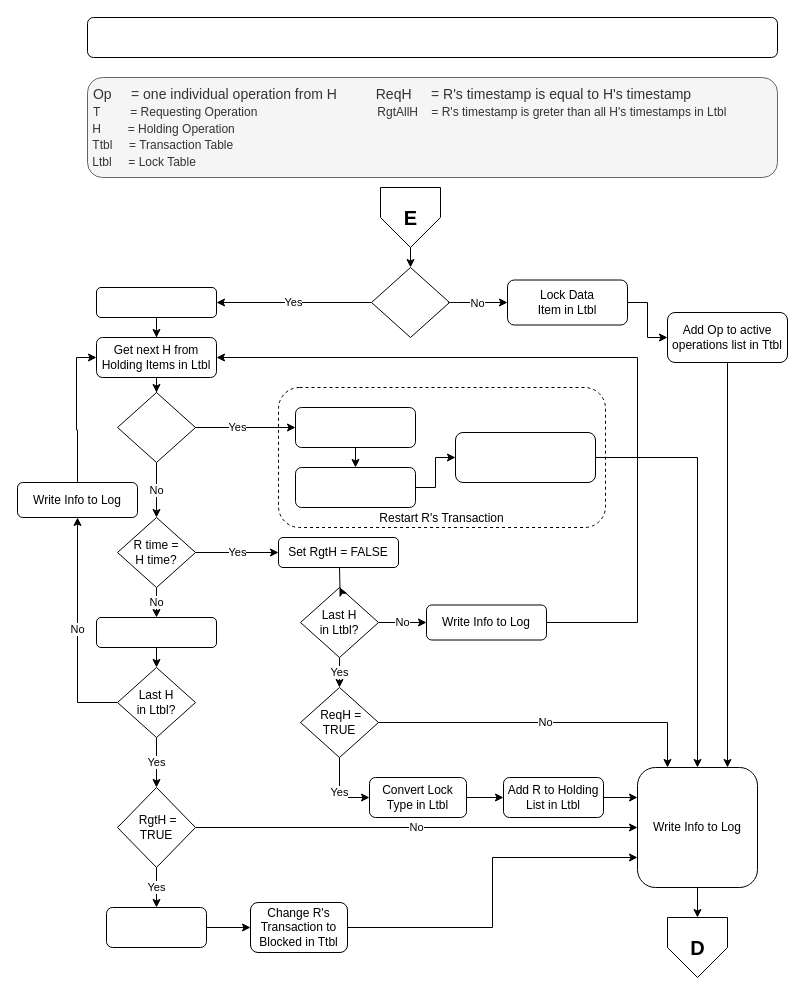
Image size: 805x995. Some labels were removed from this diagram. The box of each missing label's shape, as (x1, y1, x2, y2) in pixels:
Add R to Waiting List in Ltbl: (106, 906, 206, 948)
Change R's T status to Restarted: (294, 406, 416, 448)
Holding Items in Ltbl?: (370, 266, 450, 338)
Move Ttbl Active Operations to Front of Ttbl Blocked Oper List: (454, 432, 596, 482)
Process RW Operation - Handle Conflicts: (86, 16, 778, 58)
R time < H time?: (116, 392, 196, 462)
Set ReqH = FALSE: (96, 616, 216, 648)
Set ReqH = TRUE and RgtH = TRUE: (96, 286, 216, 318)
Unlock all operations in Ttbl Active List: (294, 466, 416, 508)
